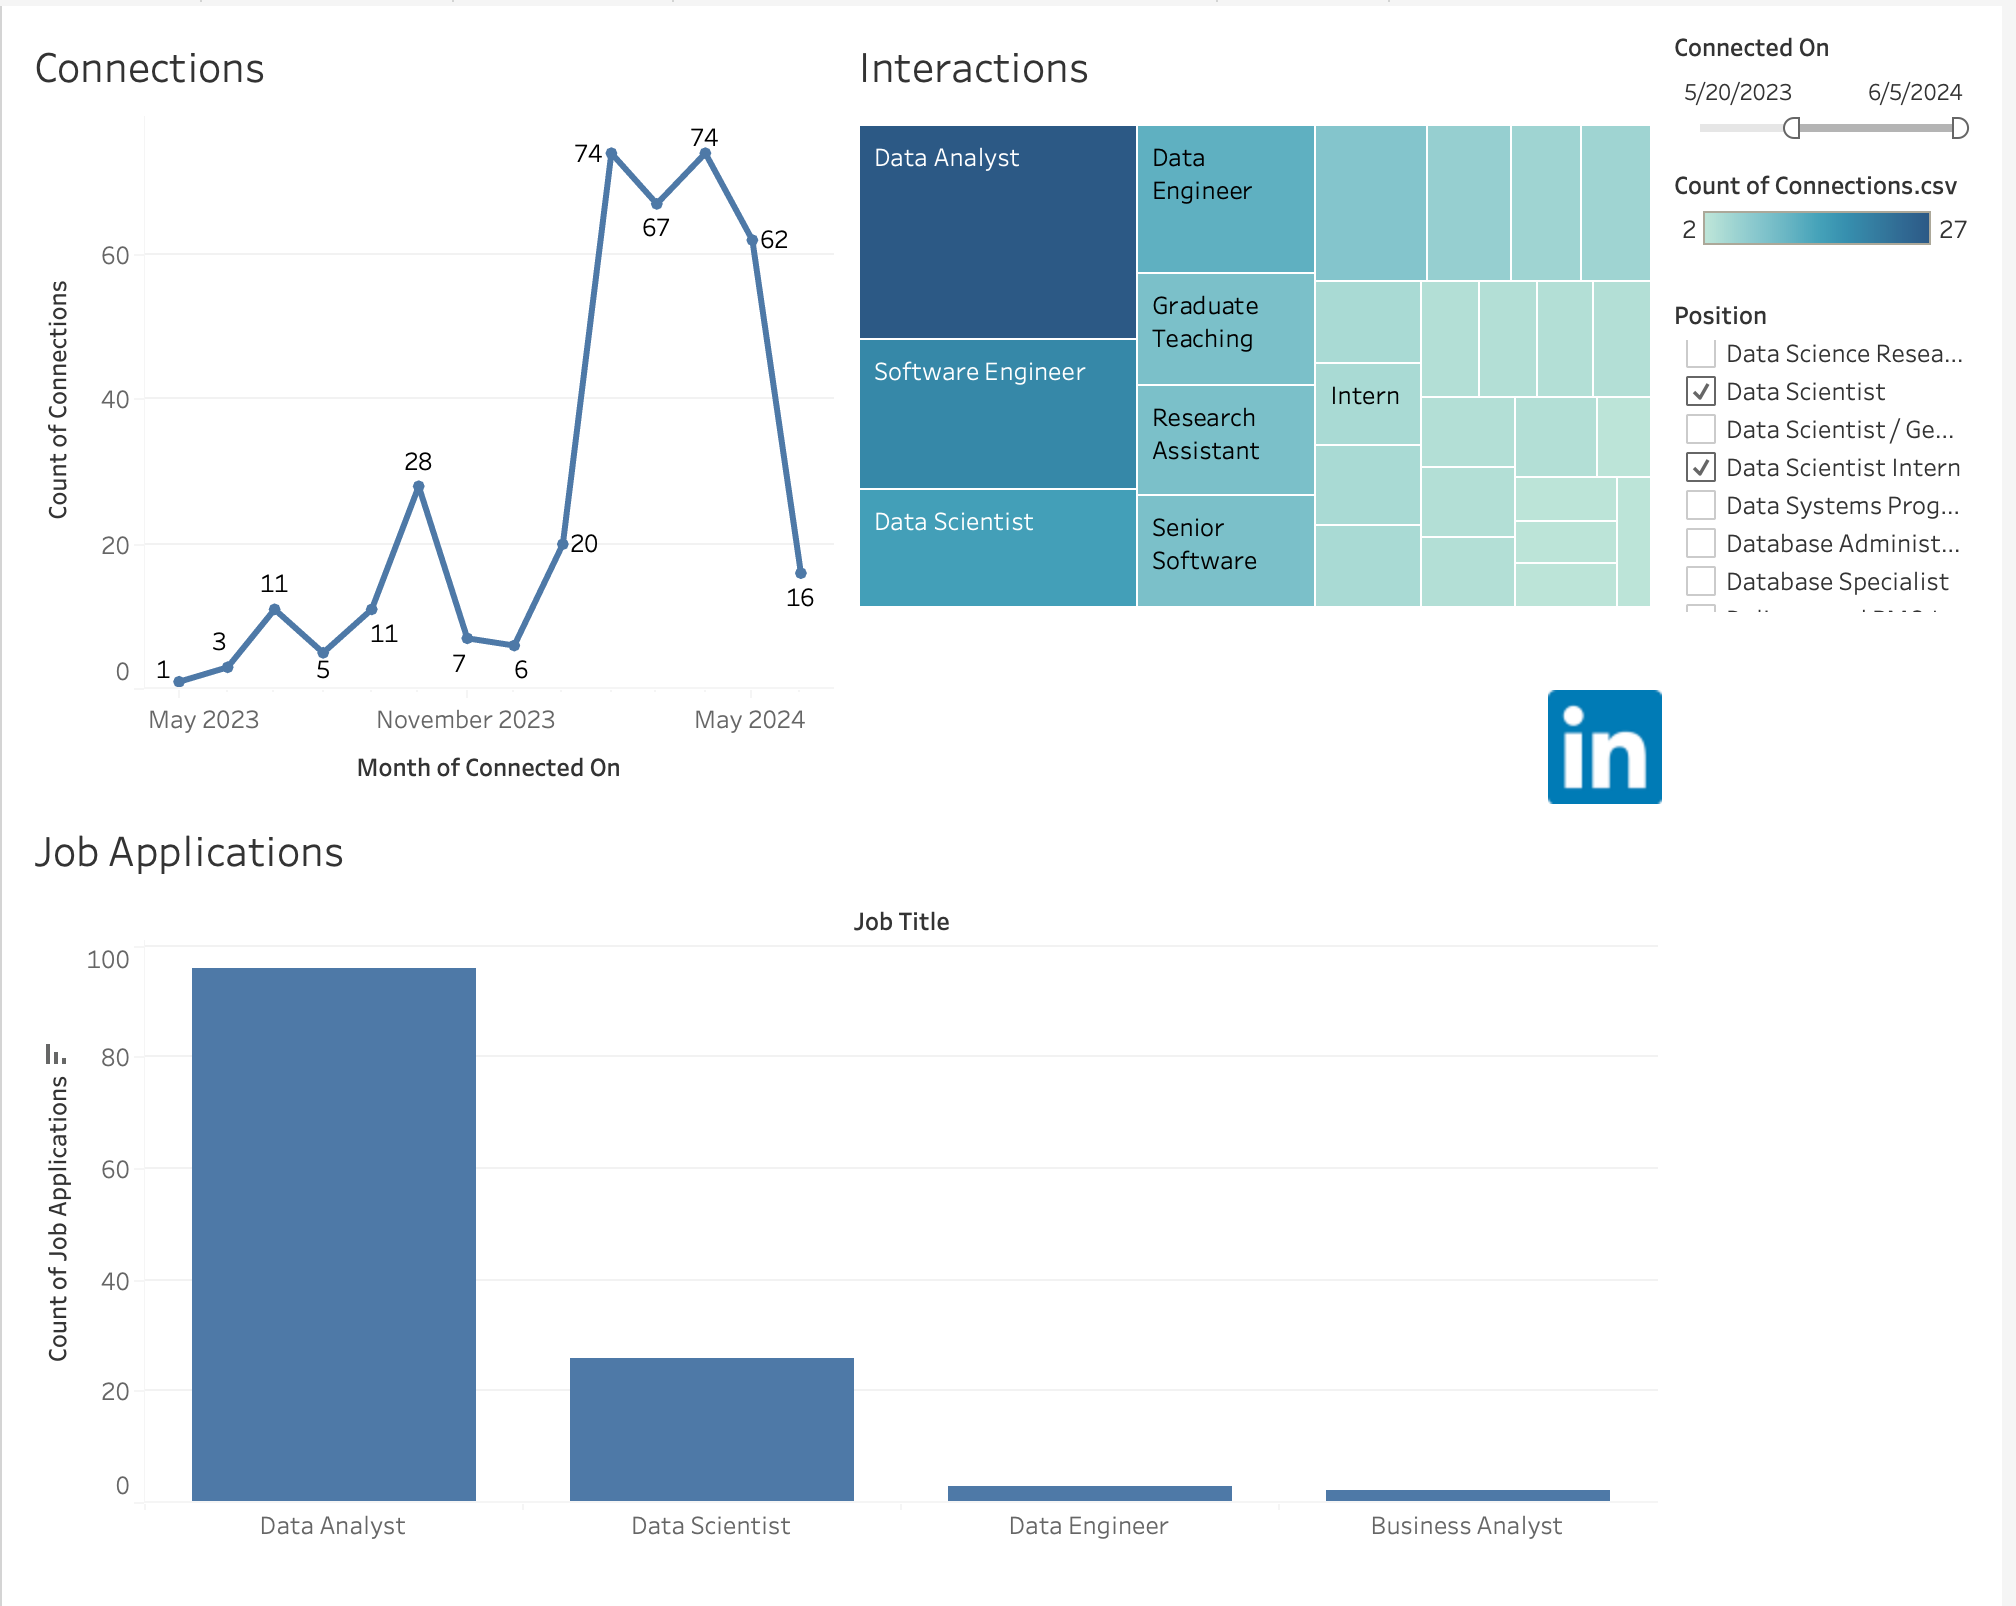

The page's visual inventory and layout, read from the dashboard file:
{"tool":"tableau","page":{"name":"Dashboard 1","canvas":[1000,800],"ordinal":0},"visuals":[{"type":"worksheet","title":"Connections ","mark":"Automatic","rows":["Connections.csv_EFAA1933D0D441CB9291A289921793B9"],"cols":["Connected On"],"box":[8,8,412,392]},{"type":"worksheet","title":"Interactions","mark":"Automatic","box":[420,8,412,392]},{"type":"legend","title":"Interactions","param":"[federated.1ecodoa04ep5a81gnv1zs0ik7k86].[__tableau_internal_object_id__].[cnt:C","box":[832,8,160,65]},{"type":"filter","title":"Connections ","param":"[federated.1ecodoa04ep5a81gnv1zs0ik7k86].[none:Connected On:qk]","box":[832,73,160,69]},{"type":"worksheet","title":"Job","mark":"Automatic","rows":["Job Applications.csv_E7F322749CC24C58BC4D03B88AFCA87A"],"cols":["Job Title"],"box":[8,400,824,392]}]}

Visuals, with their boxes in screenshot pixels (x1, y1, x2, y2), scaled from the page's 1000x800 canvas onto the 2016x1606 screenshot:
"Connections " worksheet: BBox(16, 16, 847, 803)
"Interactions" worksheet: BBox(847, 16, 1677, 803)
"Interactions" legend: BBox(1677, 16, 2000, 147)
"Connections " filter: BBox(1677, 147, 2000, 285)
"Job" worksheet: BBox(16, 803, 1677, 1590)
